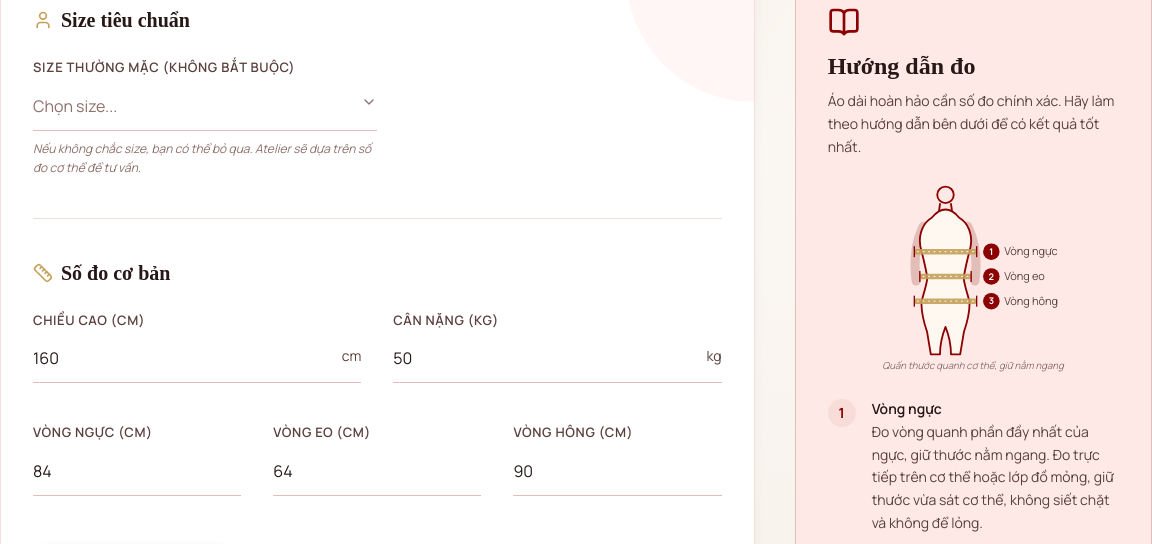
Test case: CustomerMeasurementsPage › warns but still saves when waist exceeds bust and hips
Step 1. Replace the text in the number field labelled "Vòng eo (cm)" with "95" → coordinates (377, 471), box 273,446 -> 481,496
(page scrolled)
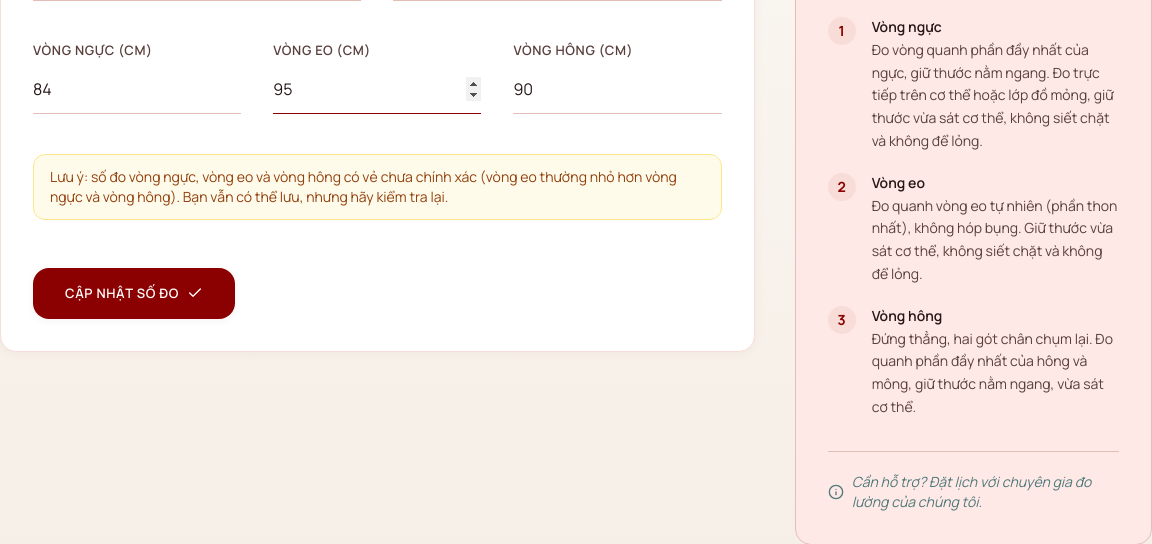
Expected: the text "số đo vòng ngực, vòng eo và vòng hông có vẻ chưa chính xác" is shown, 50,166 -> 677,206
Step 2. Click the button "Cập nhật số đo" → coordinates (134, 293), box 33,268 -> 235,319
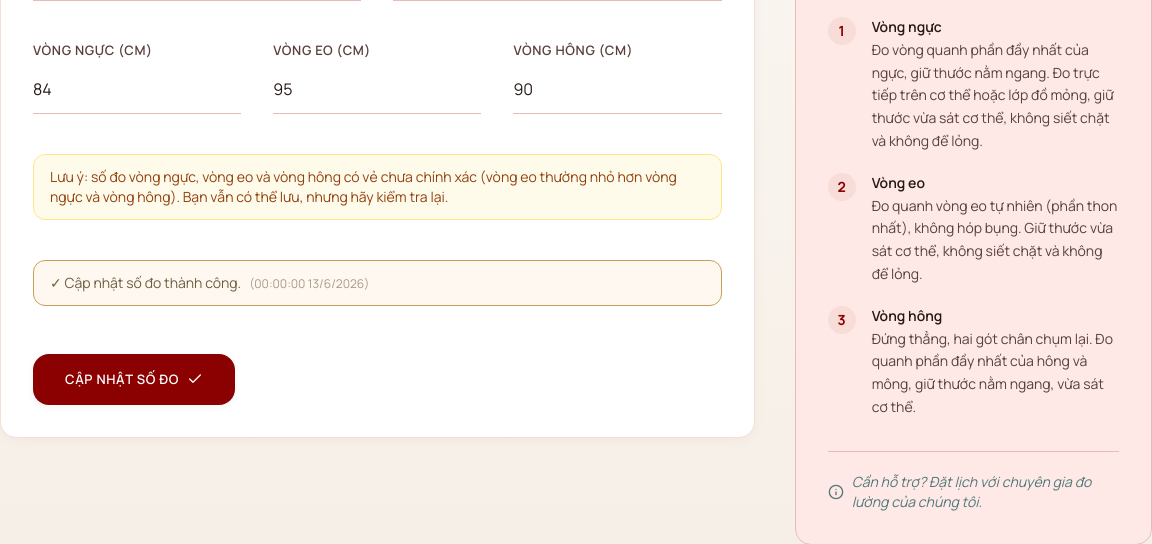
Expected: the text "✓ Cập nhật số đo thành công.(00:00:00 13/6/2026)" is shown, 33,260 -> 722,306
